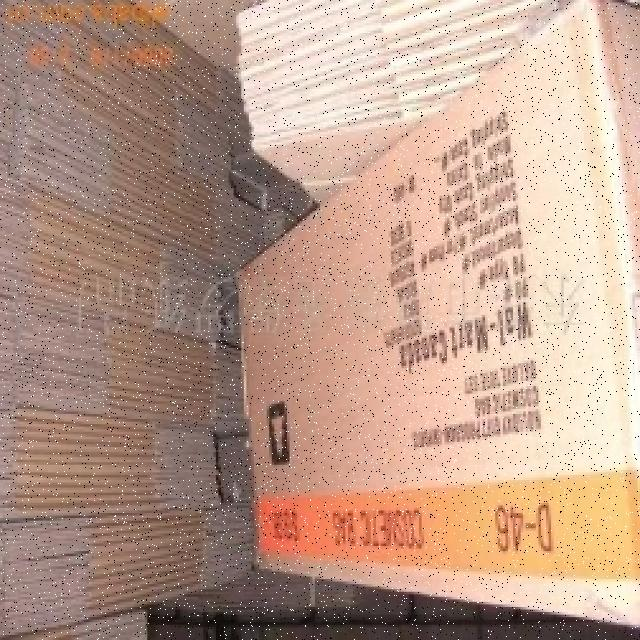box: (225, 3, 640, 629)
